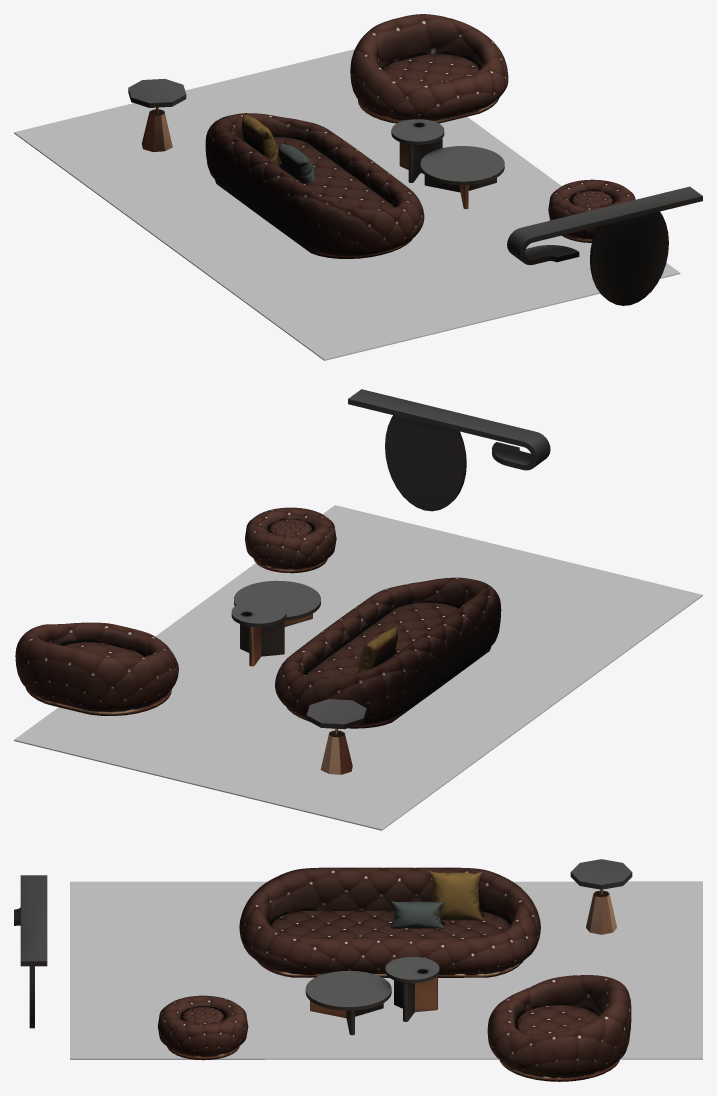
Rendered from Brown Sofa.fbx.
3 renders of one model, top to bottom at view 1: azimuth 30°, elevation 25°; view 2: azimuth 150°, elevation 25°; view 3: azimuth 270°, elevation 25°, orthographic. The views are drawn at different scales.
Visible parts, largest first — view 1: carpet, sofa, table, pillow; view 2: carpet, sofa, table, pillow; view 3: carpet, sofa, table, pillow.
Boxes of the visible parts, x1,y1,x2,y2 form: carpet: (14, 49, 680, 360); sofa: (205, 14, 635, 258); table: (128, 78, 702, 305); pillow: (242, 114, 315, 182); carpet: (14, 505, 702, 830); sofa: (15, 507, 501, 728); table: (231, 389, 550, 774); pillow: (357, 627, 397, 672); carpet: (70, 881, 702, 1059); sofa: (157, 867, 631, 1081); table: (14, 859, 632, 1035); pillow: (390, 871, 482, 928).
Size of the model in its own units: 4610 by 1019 by 6497.
